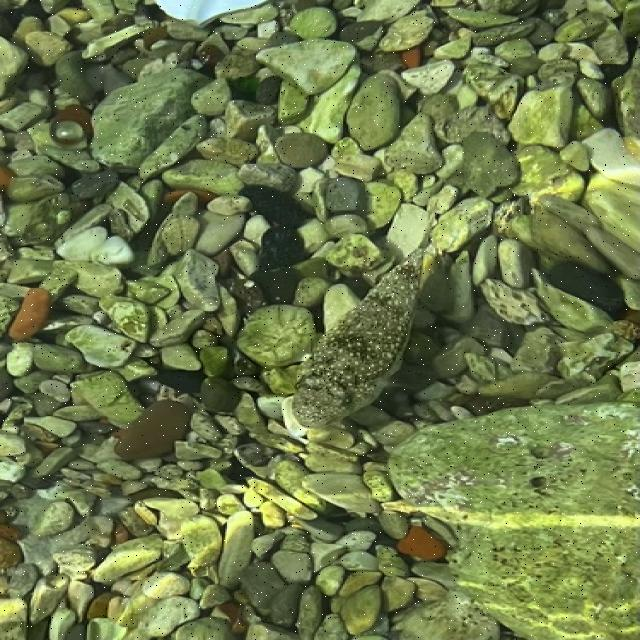Balik: (292, 249, 436, 427)
